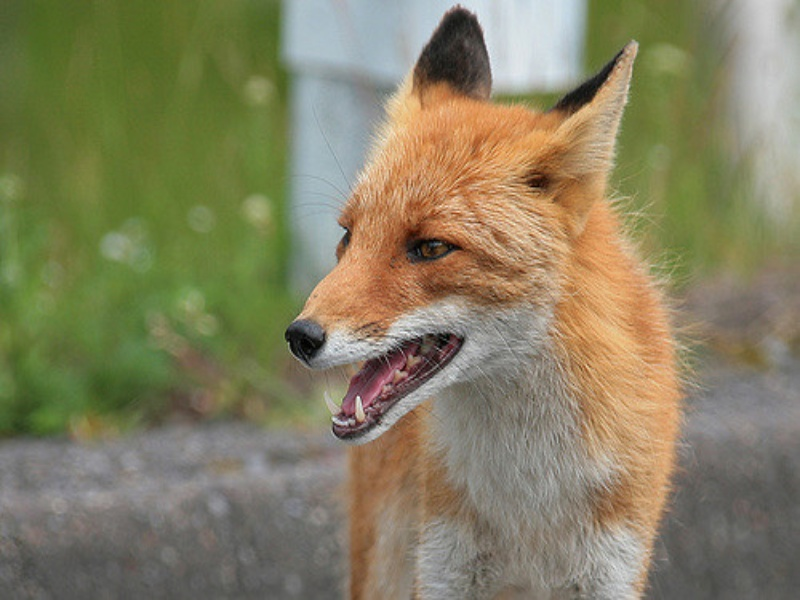fox: (279, 7, 685, 600)
